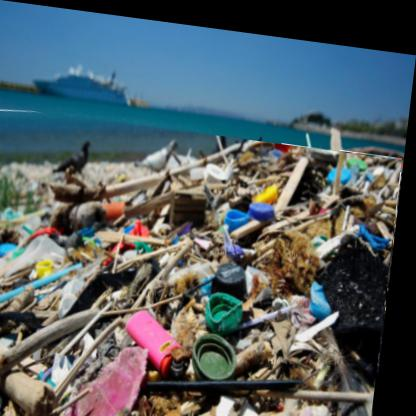Garbage: (1, 106, 407, 416)
